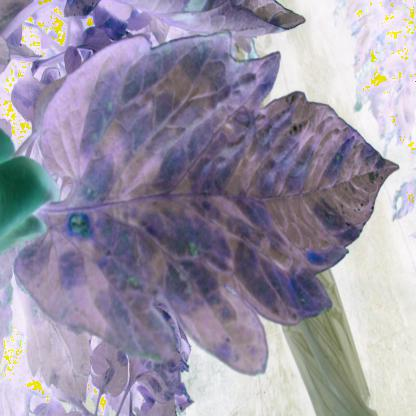tomato mold leaf: (48, 24, 405, 378)
